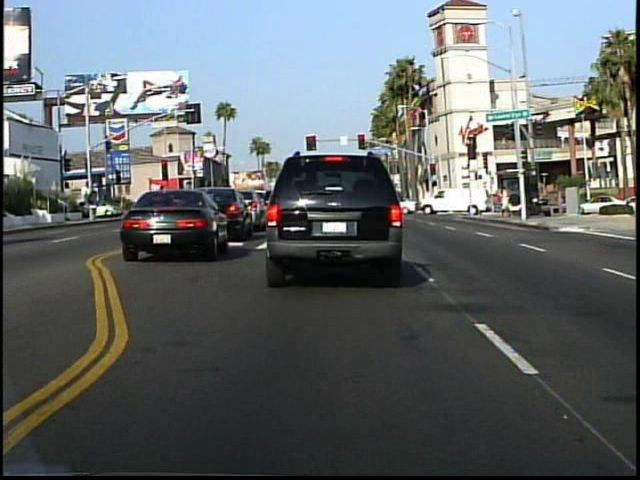person: (498, 184, 515, 221)
